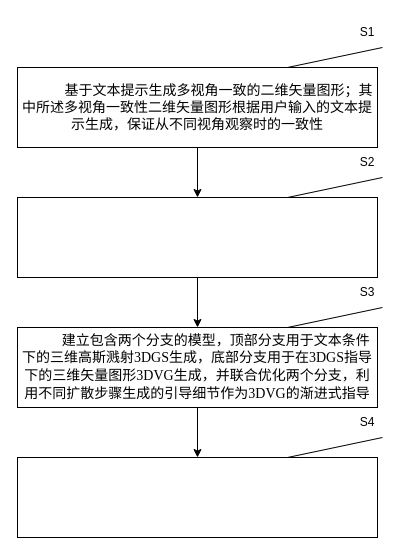
Image size: 415x555. Some labels were removed from this diagram. The centre of each missing label's shape, as x and y in pixels:
基于预设的第一神经网络模型对所述文本提示进行处理，生成与文本提示一致的三维几何结构（ 3DGS ），并利用所述 3DGS 优化生成三维矢量图形（ 3DVG ）: point 197,237
通过引入可见性感知的 3DVG 渲染方法，改进矢量图形生成的视角依赖细节: point 197,497
